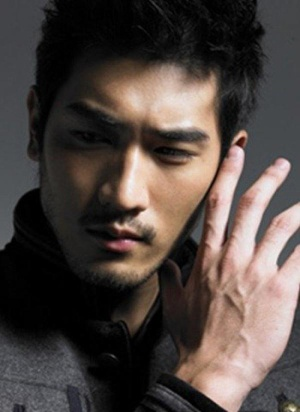male: (19, 22, 263, 305)
